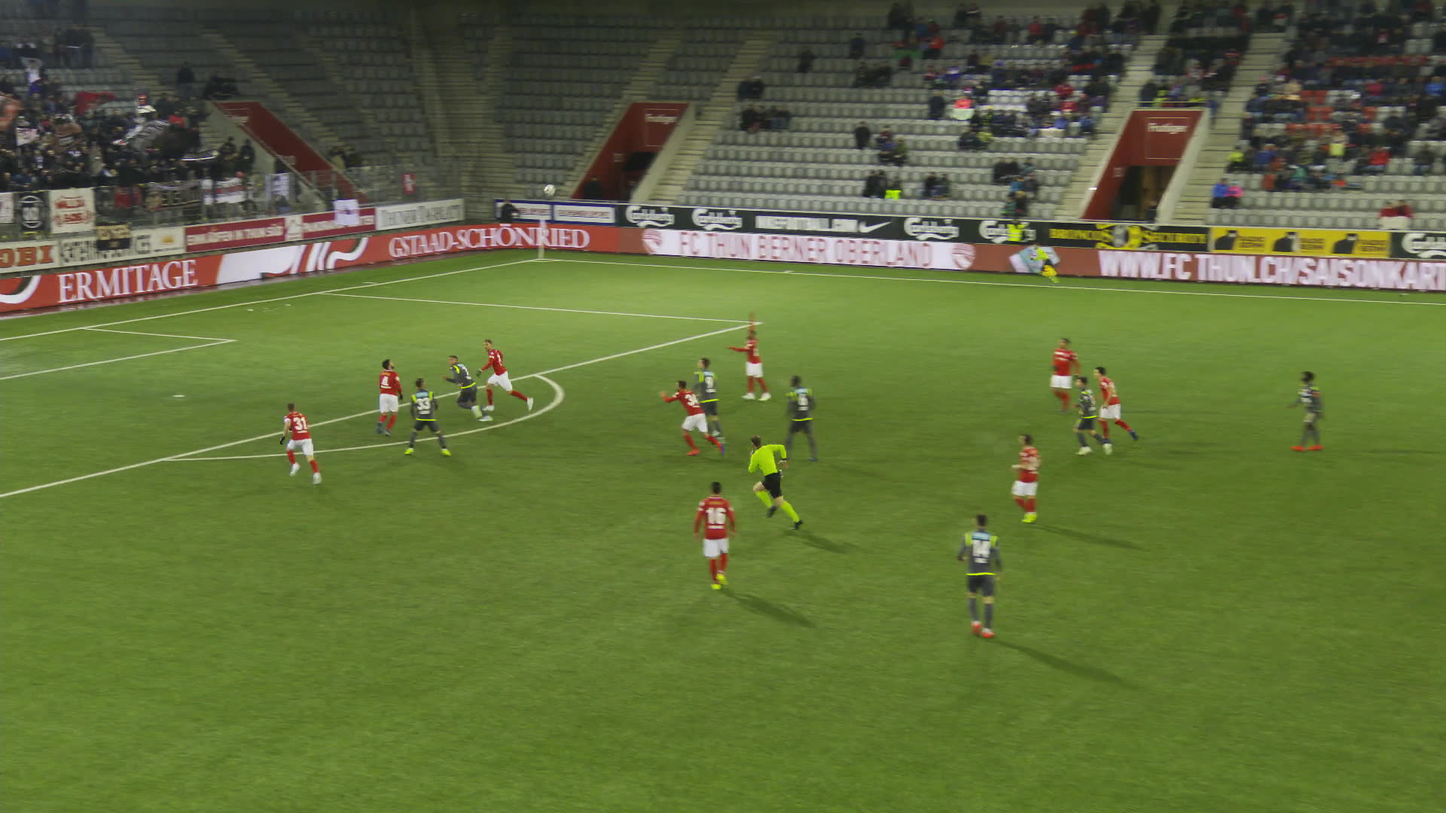ball: (546, 178, 559, 191)
player: (947, 510, 1003, 640), (648, 375, 723, 460), (682, 478, 734, 594), (266, 398, 326, 489), (470, 335, 533, 413), (1080, 361, 1134, 450), (720, 307, 767, 403), (769, 371, 818, 463), (441, 351, 499, 427), (1062, 372, 1111, 461), (358, 354, 408, 440), (1276, 366, 1324, 453), (682, 354, 725, 449), (995, 429, 1038, 523), (401, 374, 449, 458), (1032, 333, 1076, 416), (1432, 458, 1445, 535)
referee: (740, 434, 810, 527), (1021, 240, 1057, 285)
